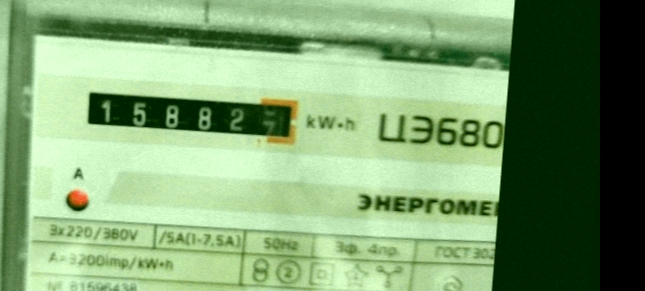1: (98, 96, 114, 122)
2: (228, 104, 244, 129)
5: (130, 98, 148, 125)
7: (260, 115, 276, 135)
8: (162, 101, 180, 128), (196, 103, 212, 129)
screen: (70, 73, 308, 154)
